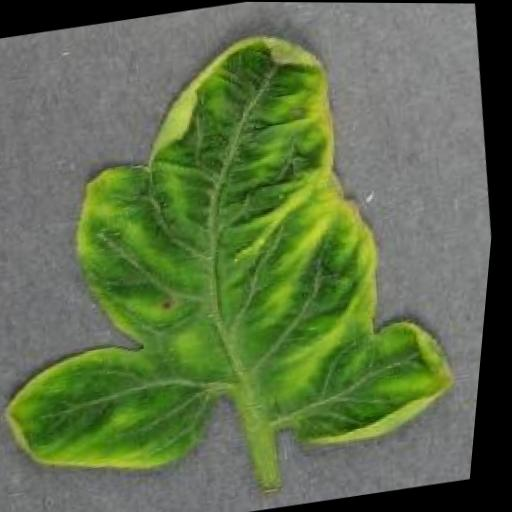Yellow Leaf Curl Virus: (0, 7, 490, 496)
